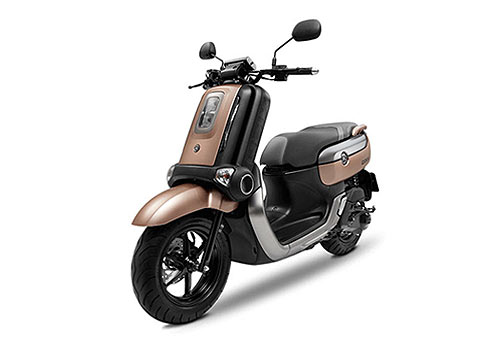motorcycle: (134, 56, 374, 322)
